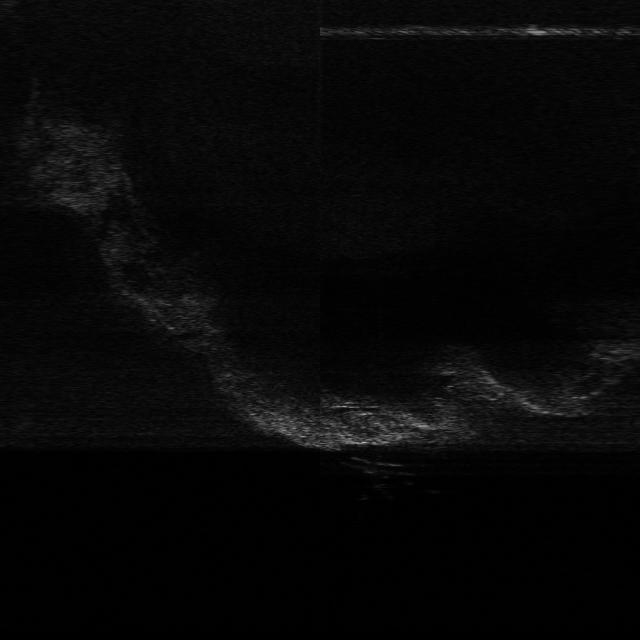plane: (339, 454, 417, 479)
